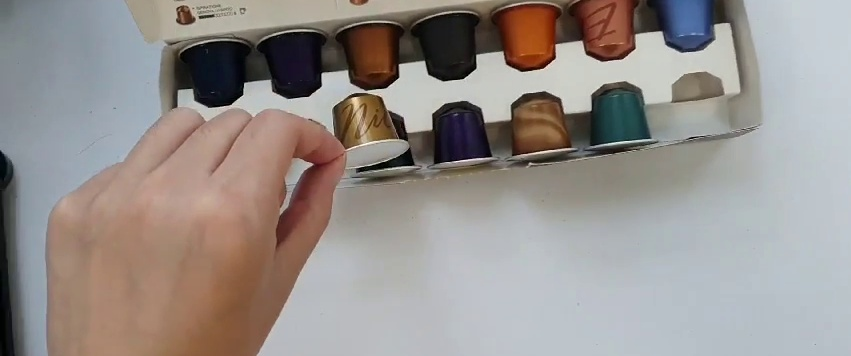capsule_9: (323, 92, 412, 172)
